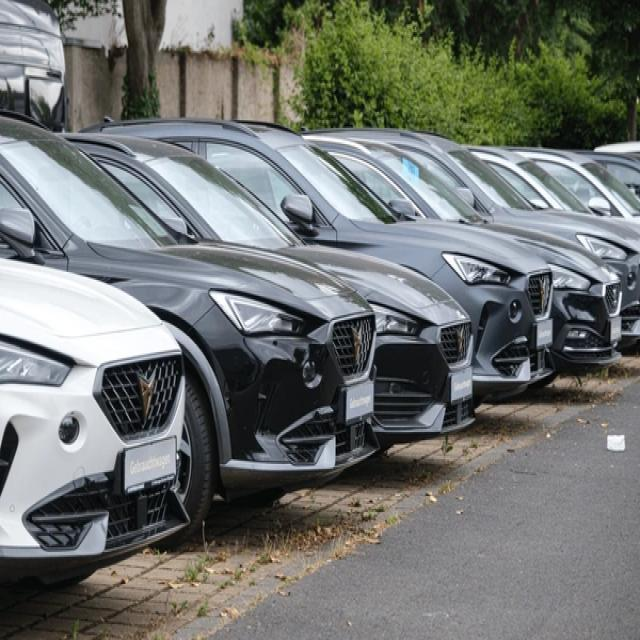cupra: (136, 370, 158, 420)
